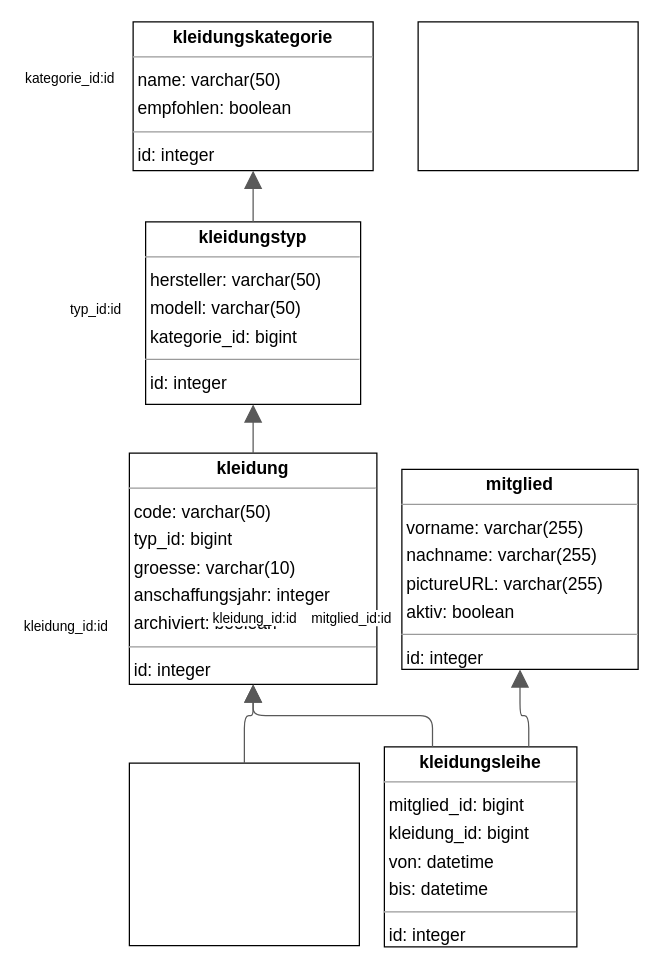
The diagram is 660 pixels wide and 969 high, and some of its shapes have lost their labels. Here are the shapes that lost their labels. From the top down, the box of each, then its label:
(417, 21, 638, 171): user username: varchar(50) password: varchar(150) id: integer
(128, 762, 359, 946): kleidungswaesche kleidung_id: bigint von: datetime bis: datetime id: integer
